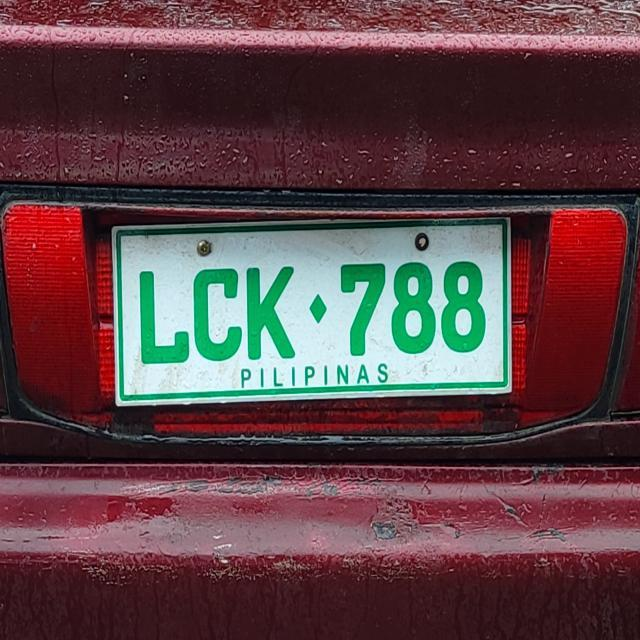LicensePlate: (102, 203, 533, 415)
